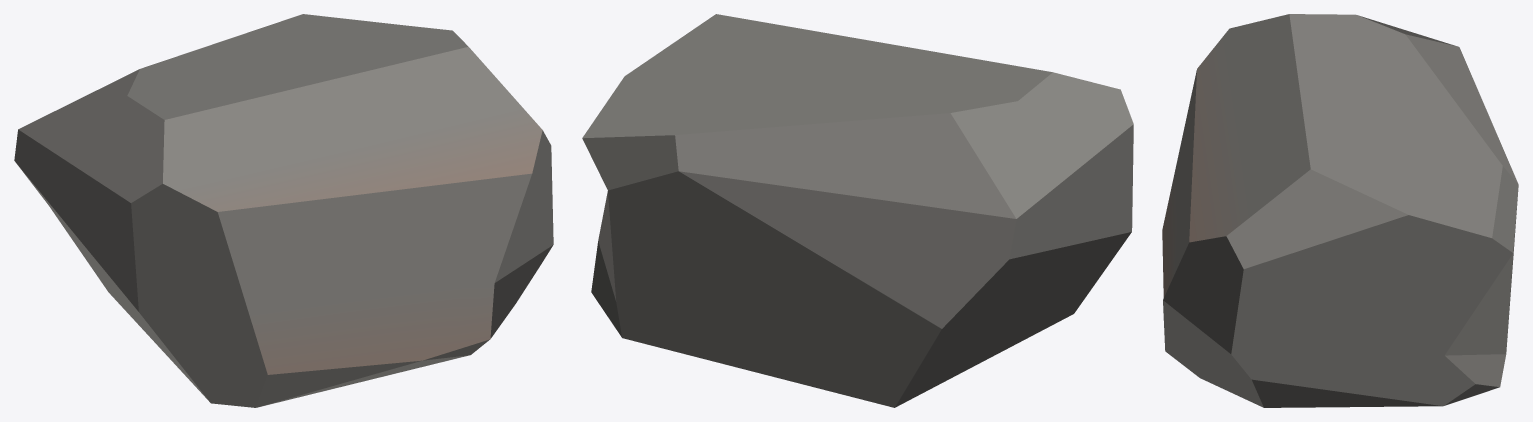
Rendered from Stone2.fbx.
The picture shows the model from 3 angles, left to right: view 1: azimuth 30°, elevation 25°; view 2: azimuth 150°, elevation 25°; view 3: azimuth 270°, elevation 25°; orthographic projection. The views are drawn at different scales.
Parts seen in each view (by area): view 1: Stone_02; view 2: Stone_02; view 3: Stone_02.
Boxes of the visible parts, x1,y1,x2,y2 form: Stone_02: [14, 14, 553, 407]; Stone_02: [582, 14, 1133, 407]; Stone_02: [1162, 14, 1518, 407].
Size of the model in its own units: 71.81 by 43.16 by 56.65.
